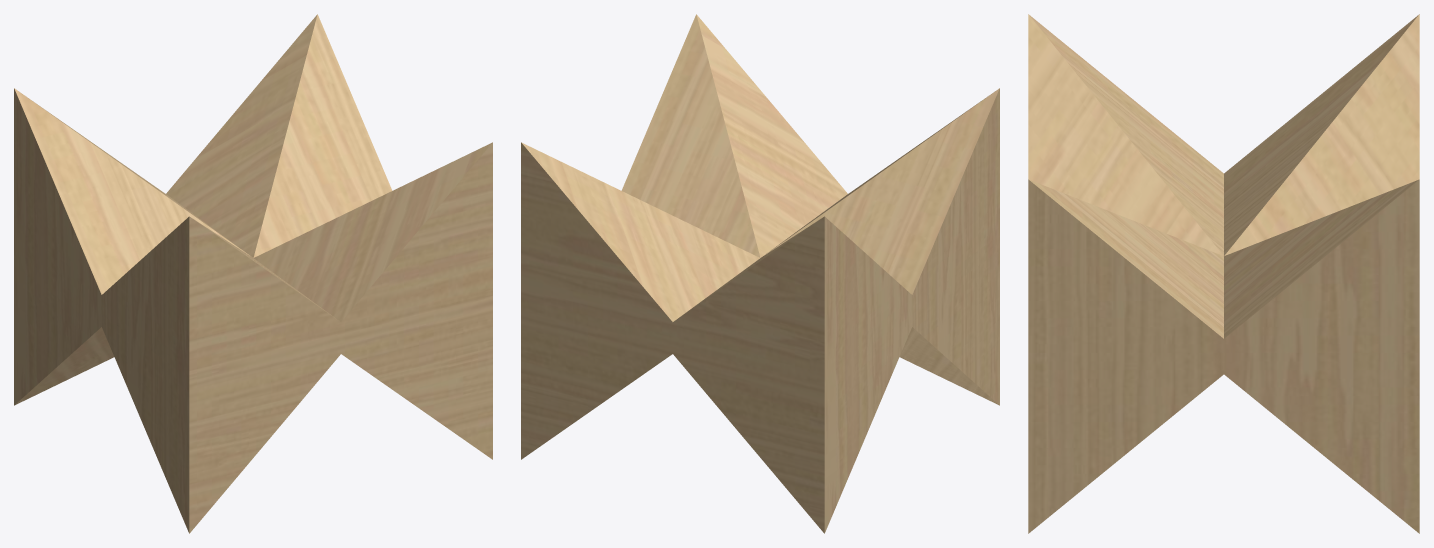
The model's file is 積み木２.fbx.
3 renders of one model, left to right at view 1: azimuth 30°, elevation 25°; view 2: azimuth 150°, elevation 25°; view 3: azimuth 270°, elevation 25°, orthographic. The views are drawn at different scales.
Visible parts, largest first — view 1: Cube; view 2: Cube; view 3: Cube.
Part boxes in pixels (x1=…): Cube: x1=14, y1=14, x2=492, y2=533; Cube: x1=521, y1=14, x2=999, y2=533; Cube: x1=1028, y1=14, x2=1419, y2=533.
Size of the model in its own units: 200 by 200 by 200.
1 material, 1 textured.
